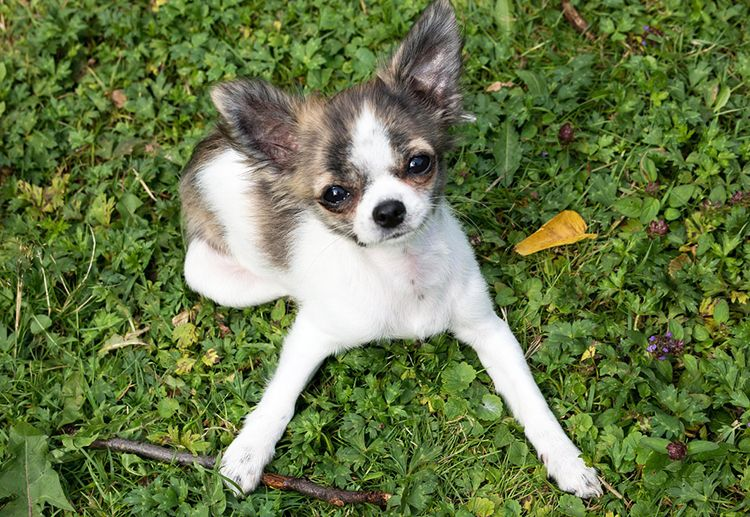chihuahua: (150, 5, 630, 517)
